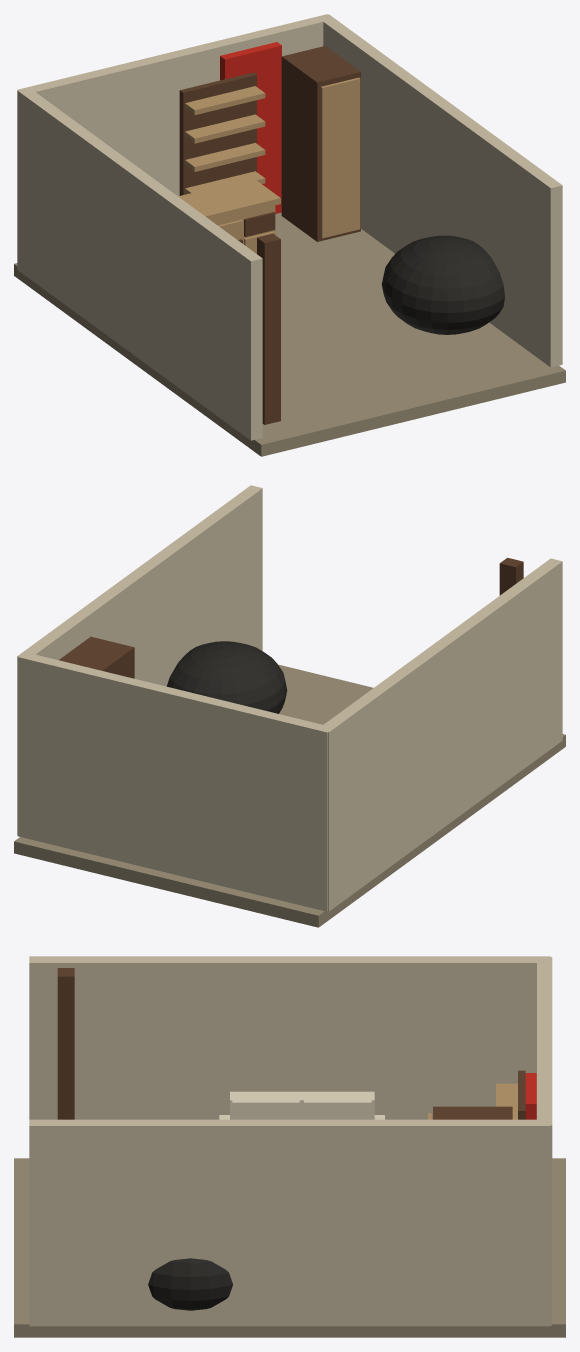
The model's file is scene-3-viga.glb.
The picture shows the model from 3 angles, top to bottom: view 1: azimuth 30°, elevation 25°; view 2: azimuth 150°, elevation 25°; view 3: azimuth 270°, elevation 25°; orthographic projection. The views are drawn at different scales.
Parts seen in each view (by area): view 1: Left wall, Floor, Right wall, Back wall, Foreground ottoman, Wardrobe, Wardrobe door, Shelf back, Red side wall, Door jamb, Chest top, Shelf.003 (+4 smaller); view 2: Back wall, Left wall, Right wall, Floor, Foreground ottoman, Wardrobe, Door jamb; view 3: Right wall, Left wall, Floor, Foreground ottoman, Back wall, Door jamb, Back cushion, Back cushion.001, Wardrobe, Sofa back, Shelf.004, Red side wall.
Boxes of the visible parts, x1,y1,x2,y2 form: Left wall: (17, 88, 262, 440); Floor: (14, 212, 565, 456); Right wall: (317, 14, 562, 367); Back wall: (18, 14, 333, 196); Foreground ottoman: (381, 235, 504, 334); Wardrobe: (281, 46, 360, 241); Wardrobe door: (320, 77, 360, 238); Shelf back: (179, 72, 256, 195); Red side wall: (220, 42, 281, 213); Door jamb: (257, 233, 280, 424); Chest top: (178, 178, 280, 220); Shelf.003: (185, 114, 265, 143); Back wall: (17, 654, 333, 911); Left wall: (318, 558, 562, 911); Right wall: (17, 485, 262, 835); Floor: (14, 664, 565, 927); Foreground ottoman: (167, 641, 287, 713); Wardrobe: (59, 636, 134, 678); Door jamb: (499, 557, 523, 595); Right wall: (29, 1119, 550, 1326); Left wall: (29, 956, 550, 1119); Floor: (14, 1158, 565, 1337); Foreground ottoman: (148, 1258, 232, 1310); Back wall: (537, 957, 552, 1325); Door jamb: (57, 968, 74, 1119); Back cushion: (232, 1095, 299, 1119); Back cushion.001: (304, 1095, 371, 1119); Wardrobe: (433, 1106, 512, 1119); Sofa back: (230, 1091, 374, 1119); Shelf.004: (496, 1083, 517, 1119); Red side wall: (525, 1073, 536, 1119).
Bounding box in the file's own units: 6.76 × 3.89 × 9.
